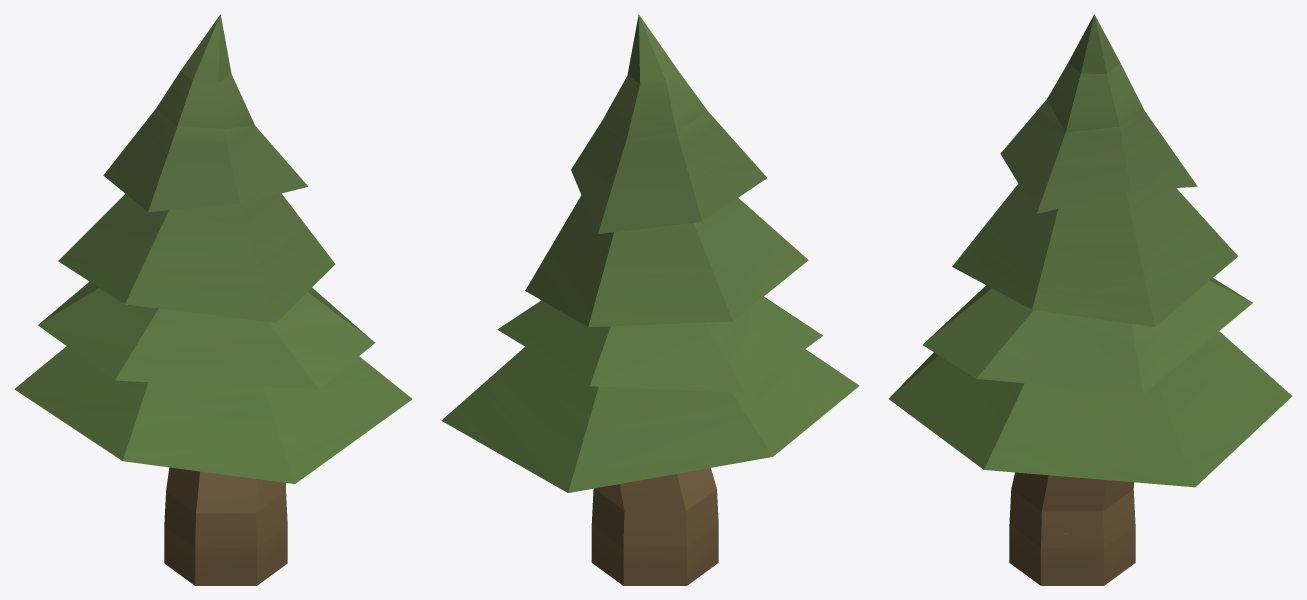
The model's file is LowPolyTree.fbx.
3 renders of one model, left to right at view 1: azimuth 30°, elevation 25°; view 2: azimuth 150°, elevation 25°; view 3: azimuth 270°, elevation 25°, orthographic. The views are drawn at different scales.
Parts seen in each view (by area): view 1: Cylinder.001; view 2: Cylinder.001; view 3: Cylinder.001.
Boxes of the visible parts, bbox=[...] form: Cylinder.001: bbox=[14, 14, 412, 585]; Cylinder.001: bbox=[441, 14, 859, 585]; Cylinder.001: bbox=[889, 14, 1292, 585].
Bounding box in the file's own units: 225 × 374 × 248.
Materials: 1 (1 with a texture image).
